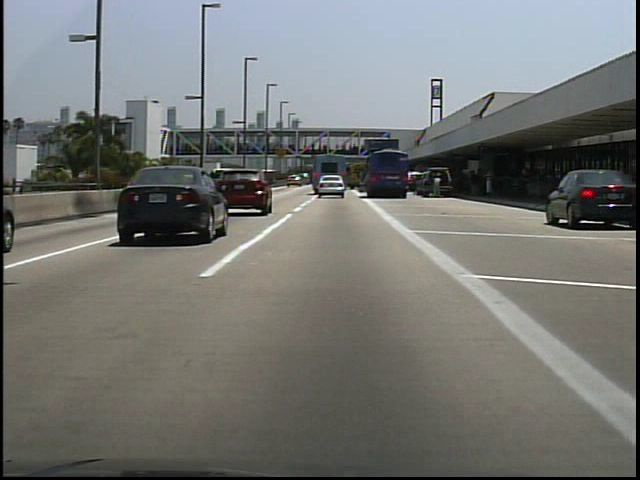person: (464, 166, 480, 202), (431, 172, 445, 201)
